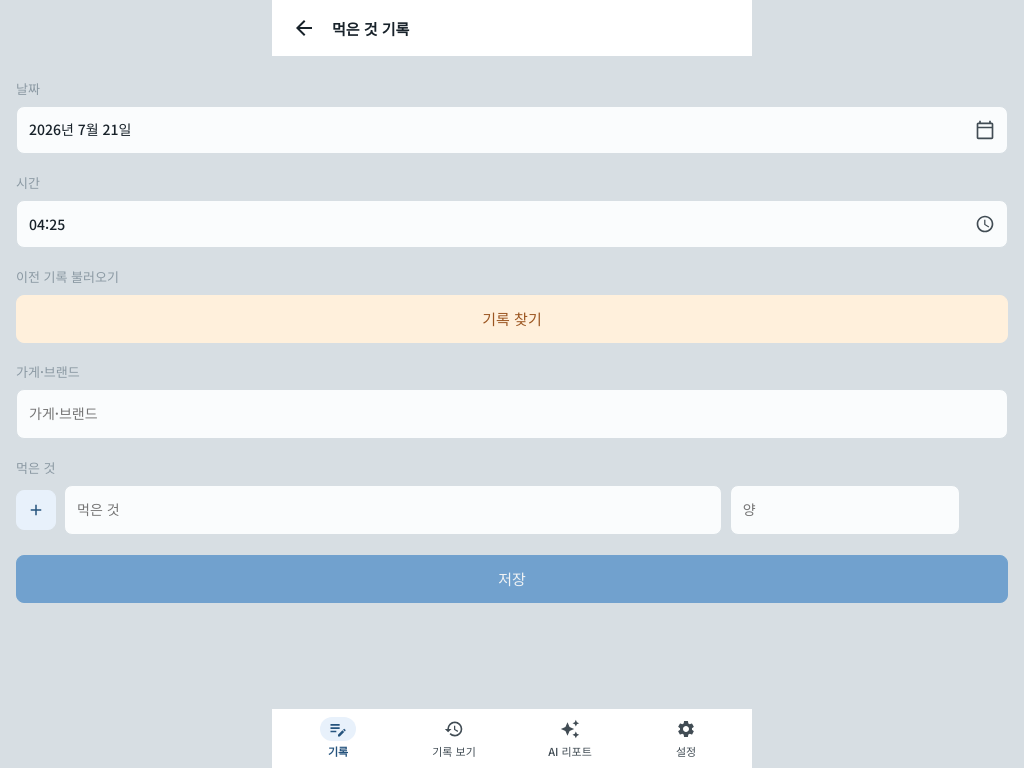
Test: FoodPageClient › adds and removes a food input
Click the button named "먹은 것 추가" at (36, 510), box left=16, top=490, right=56, bottom=530
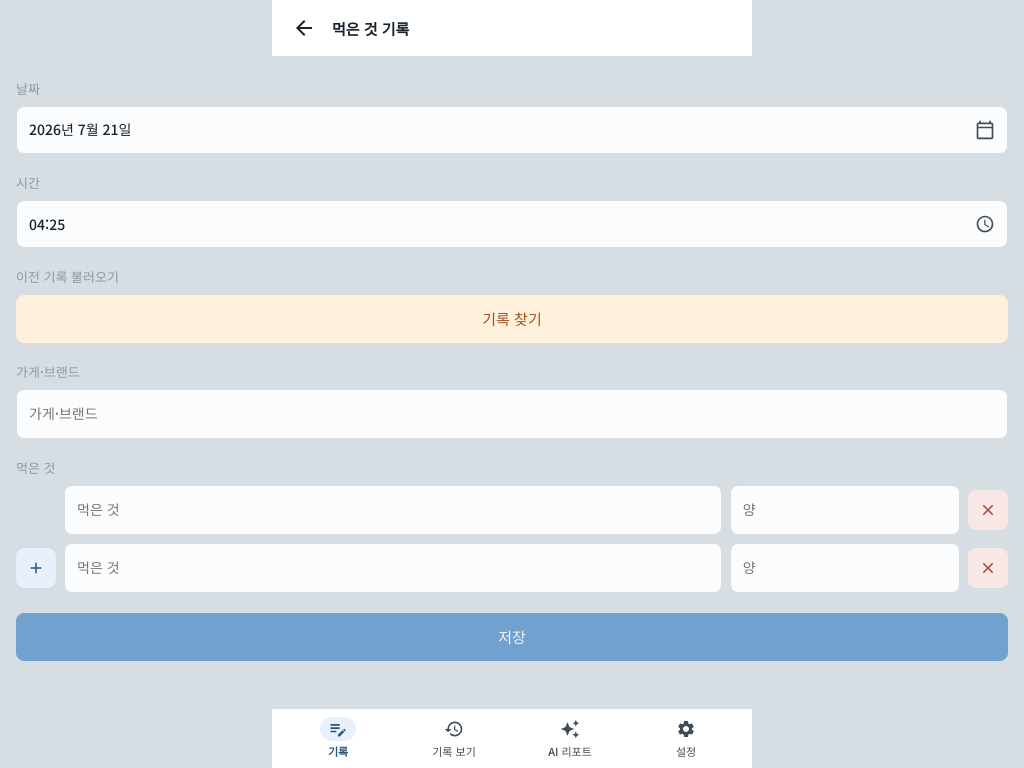
Expected: the number of fields named "먹은 것 이름" is 2, left=65, top=486, right=721, bottom=534; left=65, top=544, right=721, bottom=592
Expected: the number of buttons named "먹은 것 삭제" is 2
Click the 2nd button named "먹은 것 삭제" at (988, 568), box left=968, top=548, right=1008, bottom=588
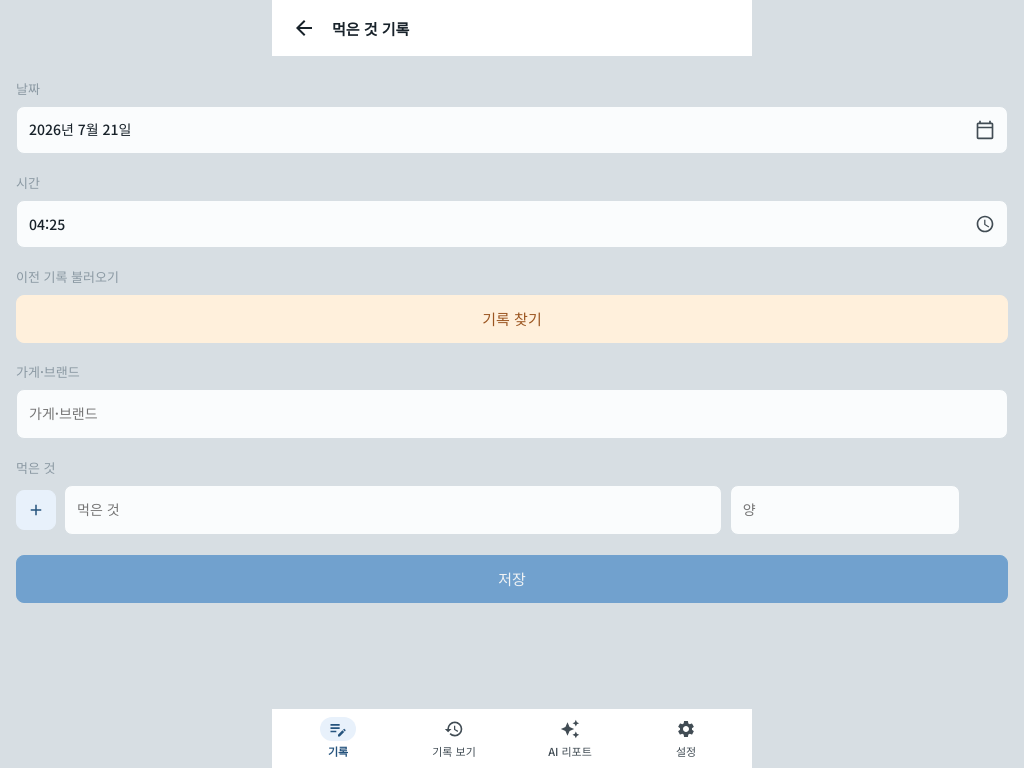
Expected: the number of fields named "먹은 것 이름" is 1, left=65, top=486, right=721, bottom=534
